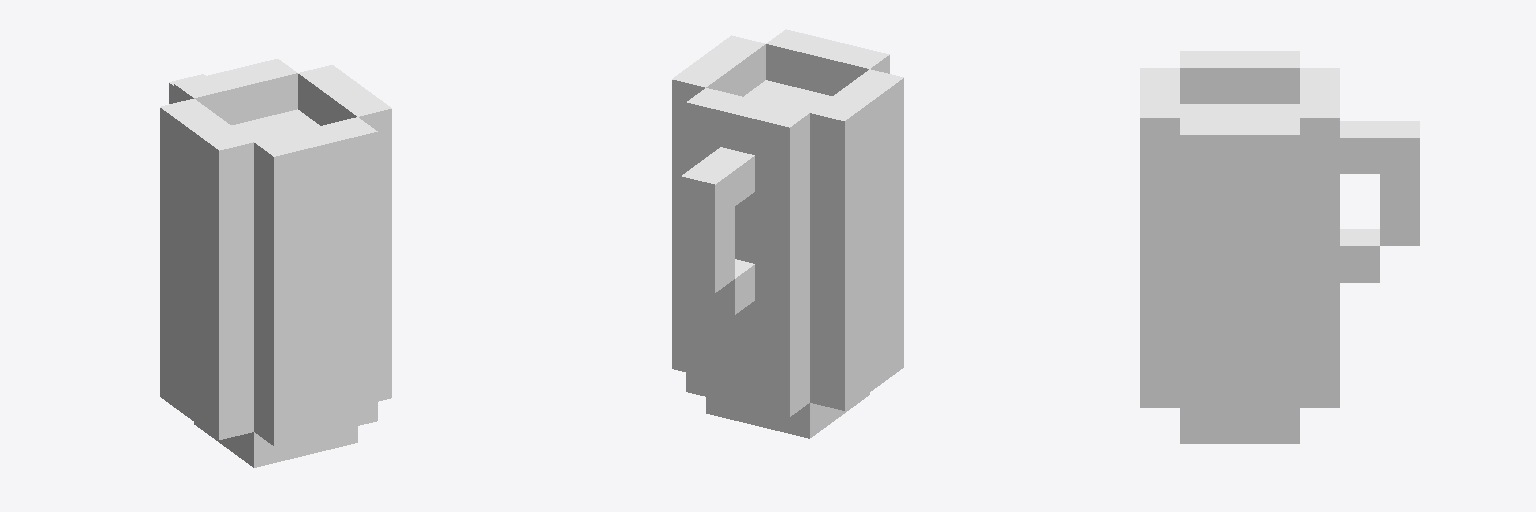
The model's file is Tasse(Factory-New).obj.
3 renders of one model, left to right at view 1: azimuth 30°, elevation 25°; view 2: azimuth 150°, elevation 25°; view 3: azimuth 270°, elevation 25°, orthographic.
Visible parts, largest first — view 1: object 1; view 2: object 1; view 3: object 1.
Part boxes in pixels (left/top/right/bottom): object 1: left=160, top=59, right=391, bottom=467; object 1: left=672, top=29, right=903, bottom=438; object 1: left=1140, top=51, right=1419, bottom=443.
Bounding box in the file's own units: 0.5 × 0.9 × 0.7.